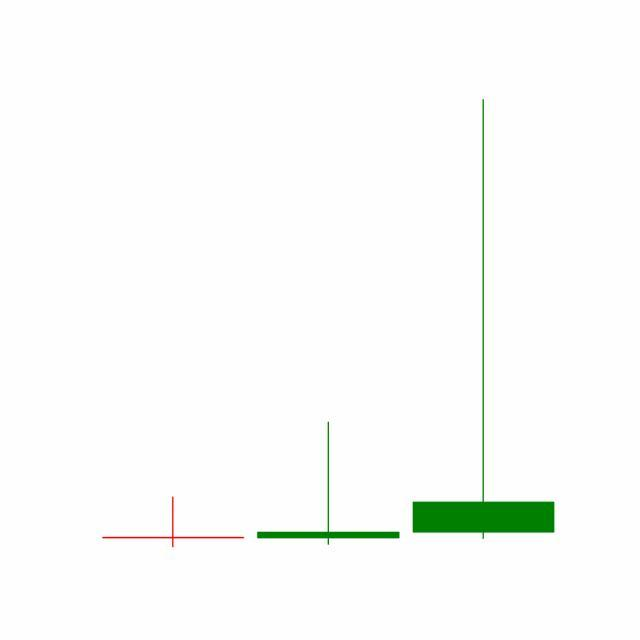Gravestone Doji: (406, 95, 562, 545)
